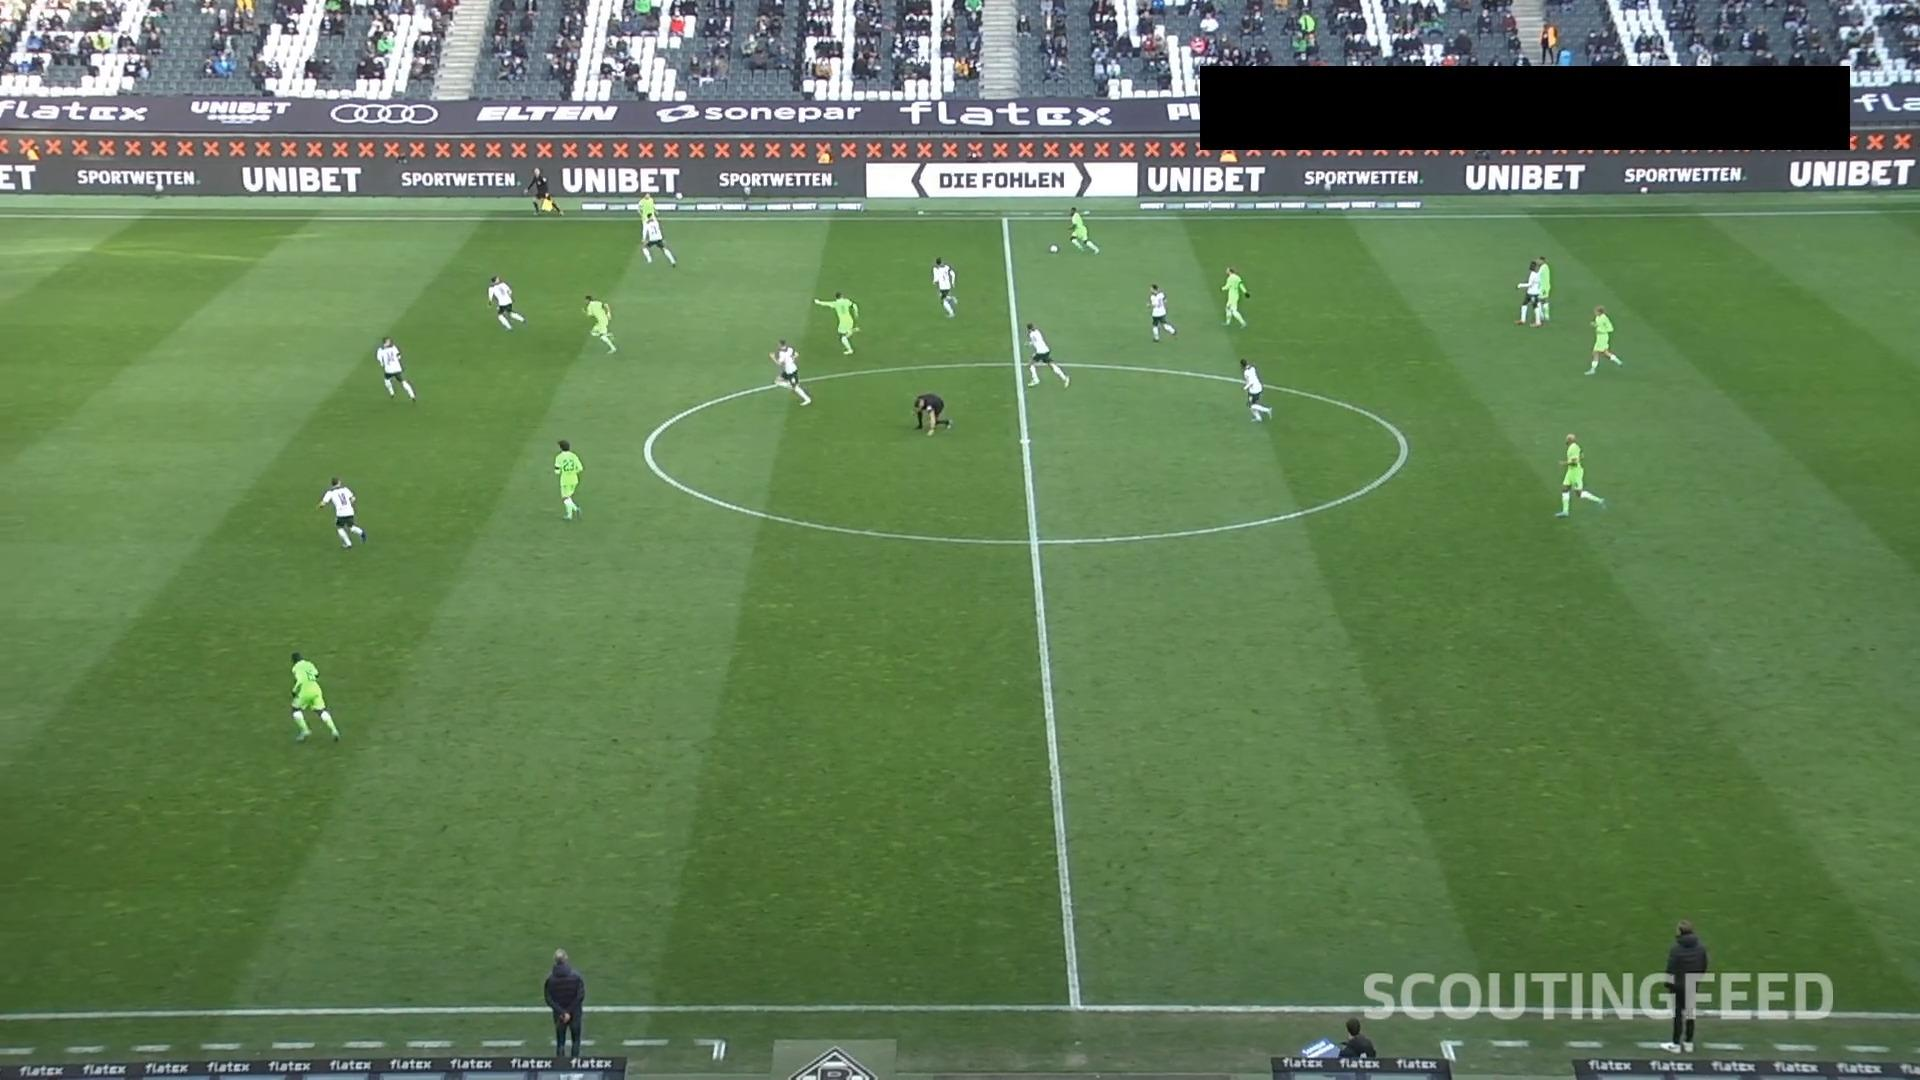ball: (1049, 245, 1058, 253)
coach: (1661, 918, 1707, 1053), (543, 947, 585, 1058)
player: (287, 650, 339, 742), (1554, 432, 1604, 518), (317, 476, 366, 549), (812, 290, 860, 355), (1023, 321, 1069, 388), (768, 339, 811, 406), (1583, 305, 1622, 375), (375, 335, 415, 401), (551, 439, 583, 520), (1238, 356, 1272, 422), (486, 275, 525, 330), (638, 211, 676, 266), (583, 293, 616, 354), (1219, 265, 1249, 328), (1515, 259, 1543, 326), (1147, 282, 1176, 342), (930, 256, 958, 318), (1067, 205, 1099, 254), (1532, 255, 1552, 323), (636, 192, 656, 258), (636, 191, 655, 223)
referee: (522, 165, 565, 220), (911, 392, 952, 436), (1337, 1016, 1376, 1059)
